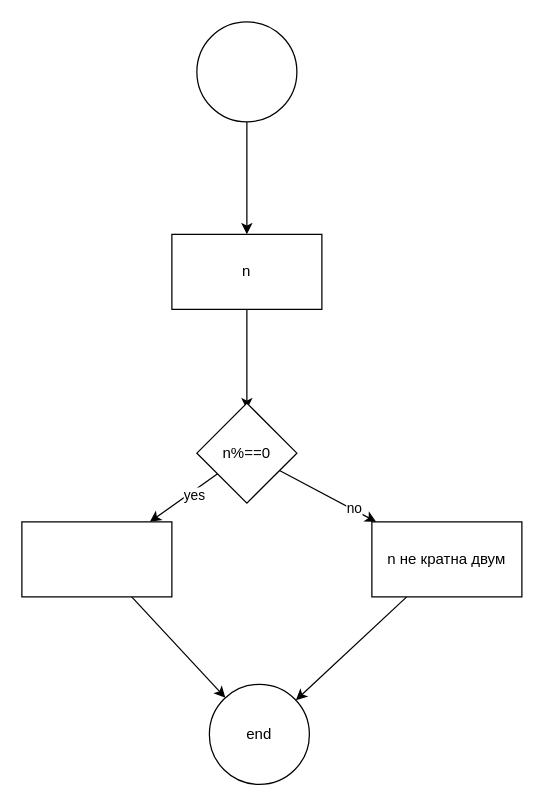
This 544x806 diagram has some shape labels left out. Each missing label, with the centre of its shape:
n кратна двум: point (96, 559)
start: point (246, 71)
